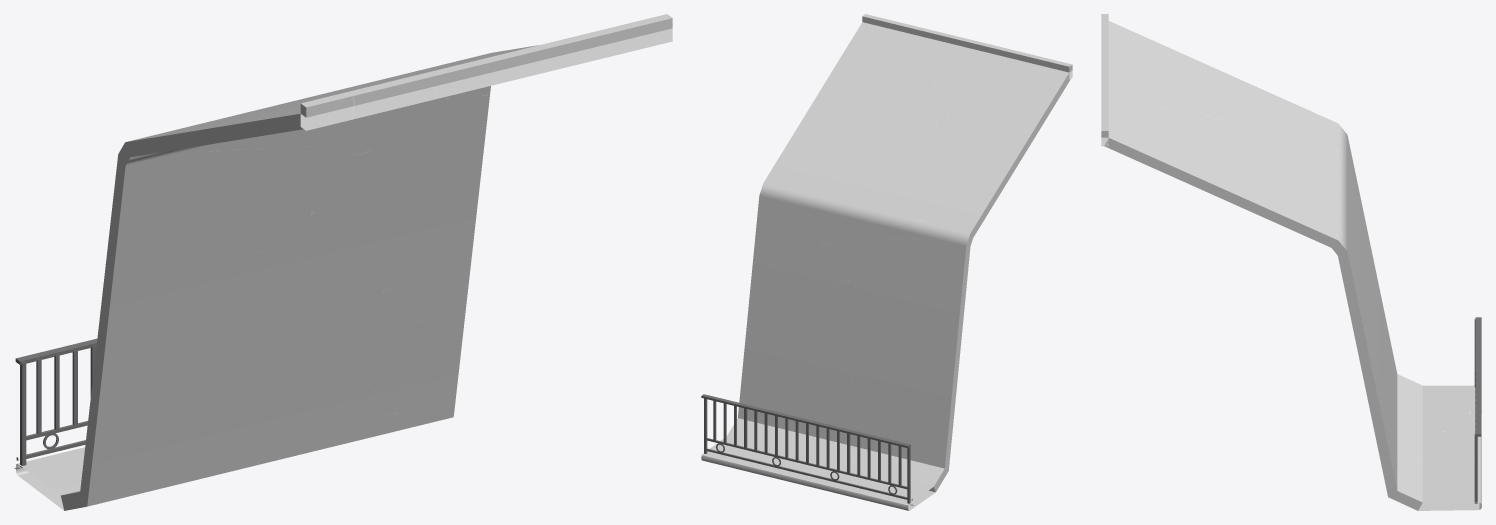
Rendered from SM_Paris_Rooftop_400uu_BP.fbx.
The picture shows the model from 3 angles, left to right: view 1: azimuth 30°, elevation 25°; view 2: azimuth 150°, elevation 25°; view 3: azimuth 270°, elevation 25°; orthographic projection. The views are drawn at different scales.
Visible parts, largest first — view 1: SM_Paris_Rooftop_400uu_BP5w; view 2: SM_Paris_Rooftop_400uu_BP5w; view 3: SM_Paris_Rooftop_400uu_BP5w.
Boxes of the visible parts, x1,y1,x2,y2 form: SM_Paris_Rooftop_400uu_BP5w: [14, 14, 672, 510]; SM_Paris_Rooftop_400uu_BP5w: [701, 14, 1072, 510]; SM_Paris_Rooftop_400uu_BP5w: [1101, 14, 1481, 510].
Bounding box in the file's own units: 405 × 606 × 549.
